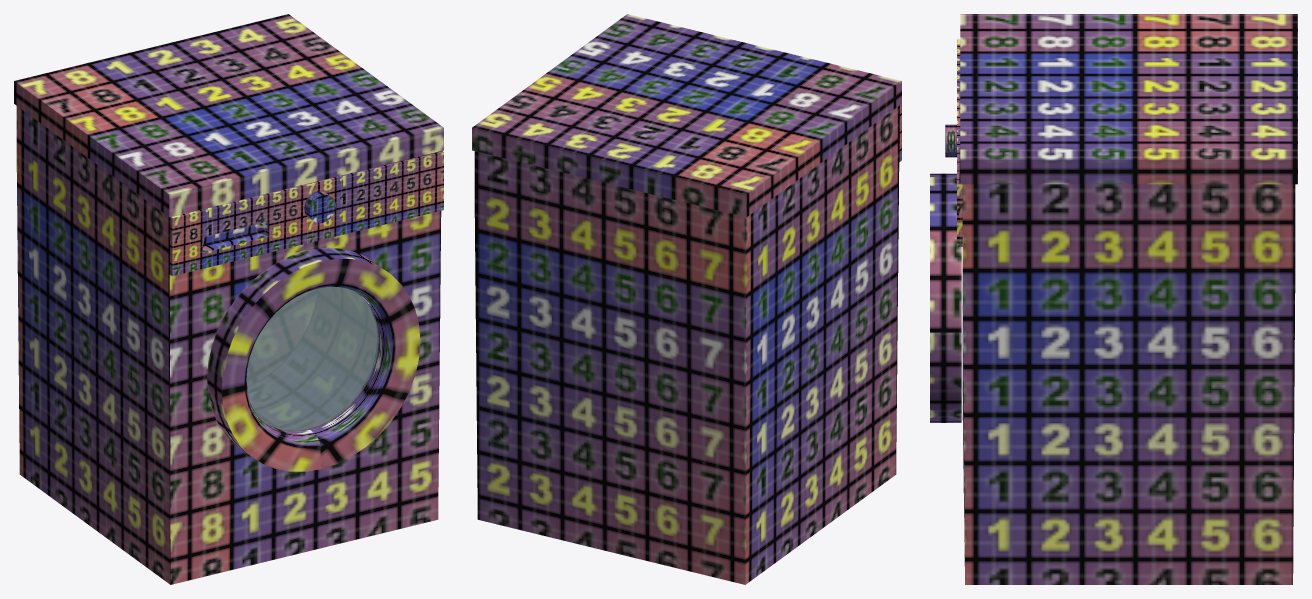
Rendered from washing_machine_LP.fbx.
3 views of the same model, side by side, from view 1: azimuth 30°, elevation 25°; view 2: azimuth 150°, elevation 25°; view 3: azimuth 270°, elevation 25° (orthographic). The views are drawn at different scales.
Visible parts, largest first — view 1: base, circle_thing, glass_circle_thing, button; view 2: base; view 3: base, circle_thing.
Boxes of the visible parts, x1=… form: base: x1=14, y1=14, x2=443, y2=584; circle_thing: x1=207, y1=248, x2=420, y2=471; glass_circle_thing: x1=246, y1=287, x2=378, y2=431; button: x1=304, y1=191, x2=335, y2=223; base: x1=472, y1=14, x2=901, y2=584; base: x1=957, y1=14, x2=1297, y2=584; circle_thing: x1=930, y1=173, x2=961, y2=422.
Bounding box in the file's own units: 0.6214 × 0.85 × 0.6633.
Materials: 2 (1 with a texture image).
